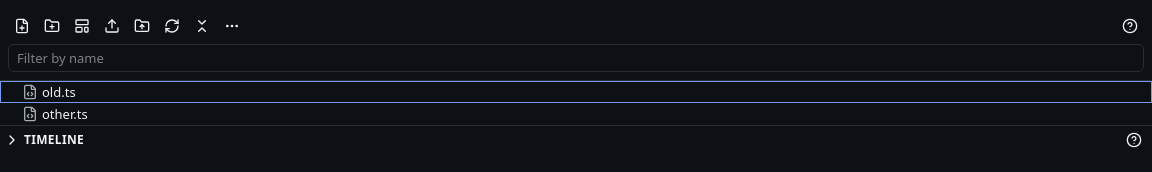
renaming in place — S-171, S-172 › refuses an impossible name before sending anything
Press F2
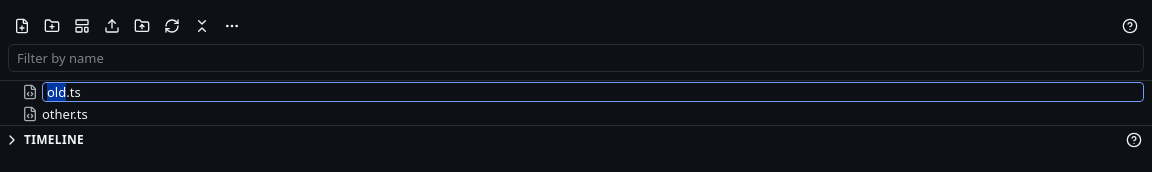
Clear the field at (593, 92), box [42,82,1144,102]
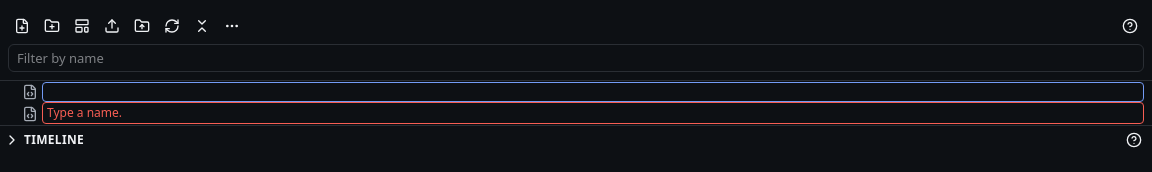
Now the message reads "Type a name.", box [47,104,122,121]
Type "a/b" into the field at (593, 92), box [42,82,1144,102]
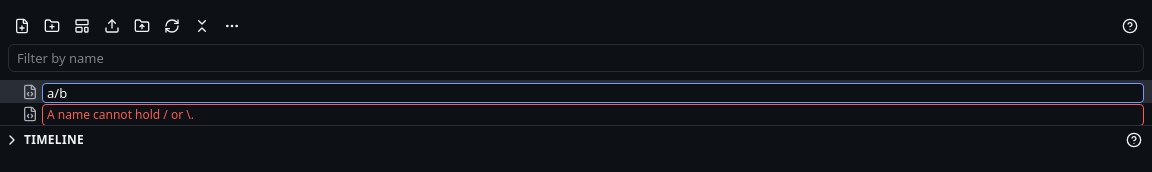
Now the message reads "A name cannot hold / or \\.", box [47,106,194,123]
Replace the text in the field with "other.ts" at (593, 93), box [42,83,1144,103]
Then press Enter
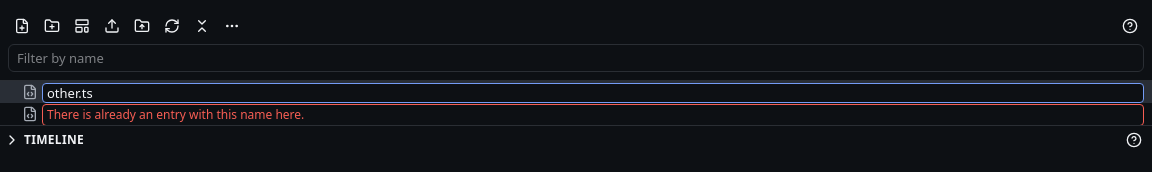
Now the message reads "There is already an entry with this name here.", box [47,106,304,123]
